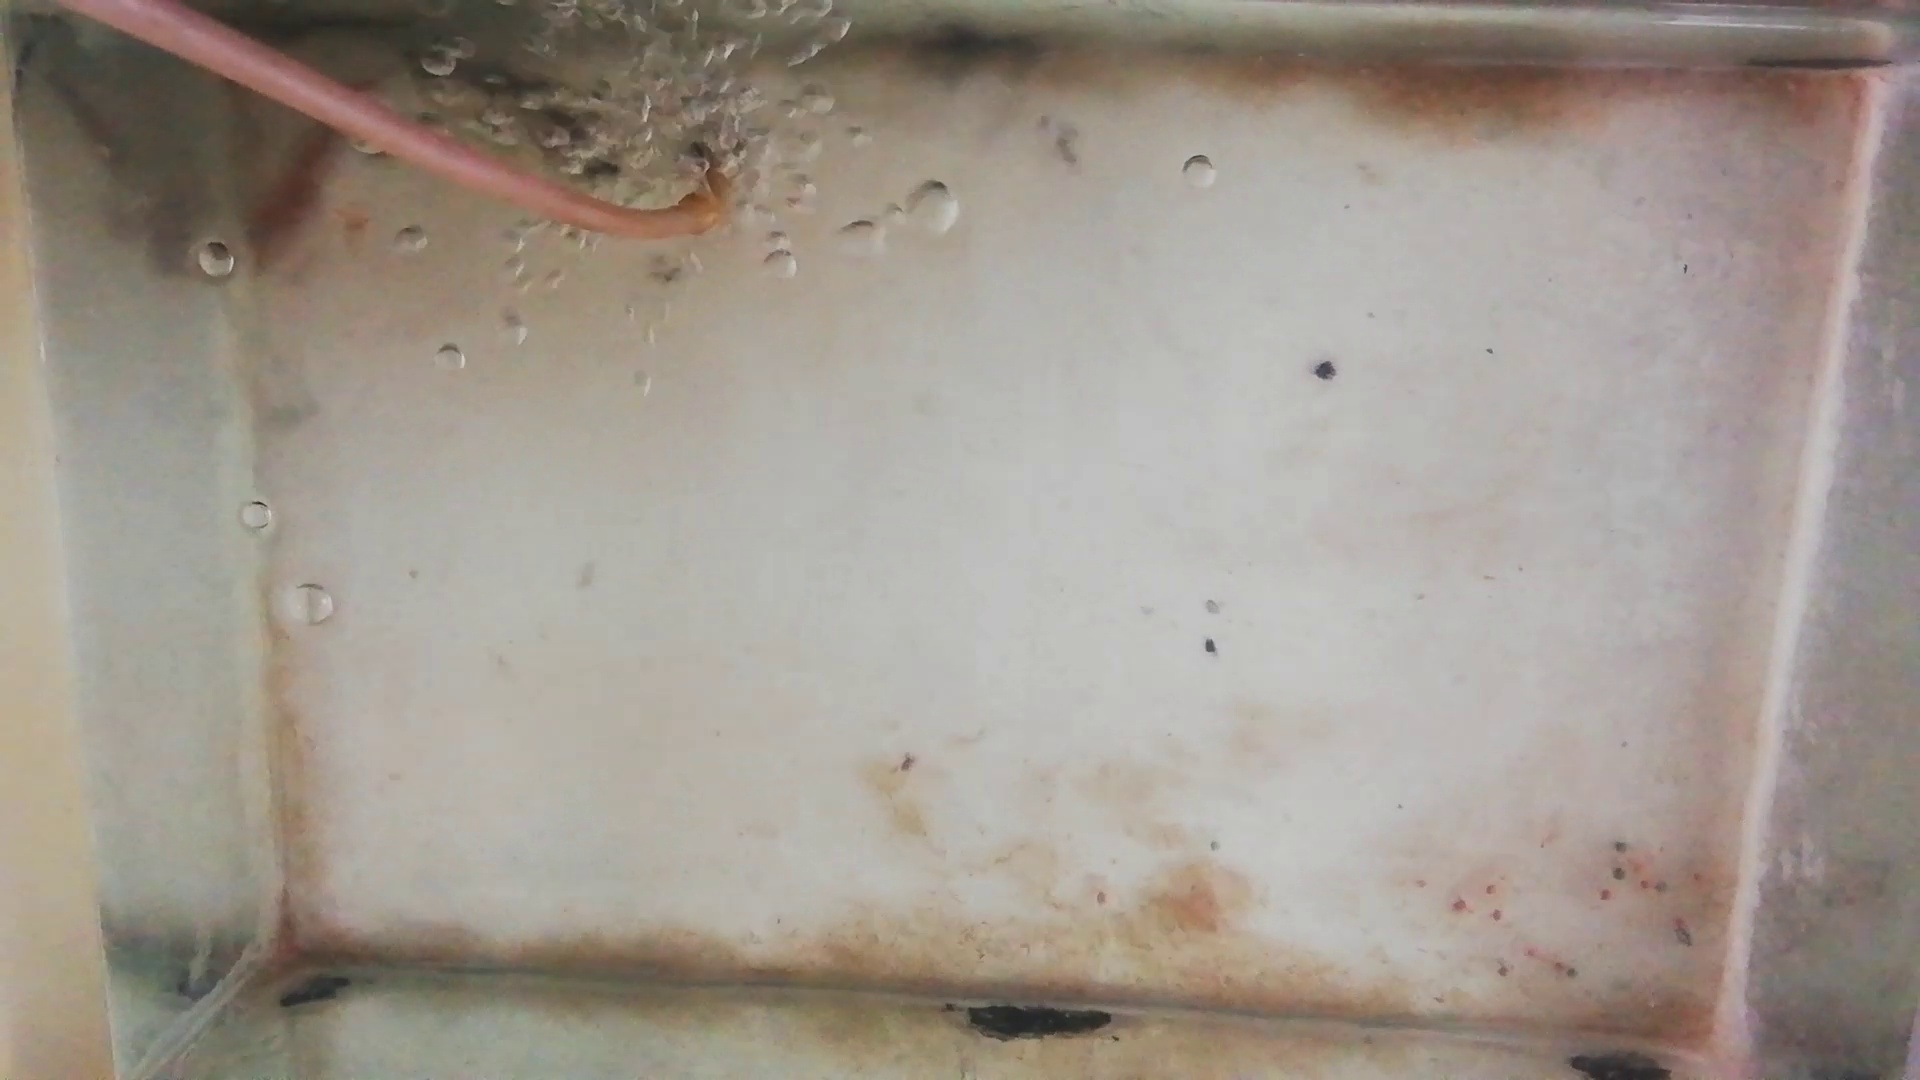fish: (433, 51, 626, 181), (243, 109, 349, 269)
